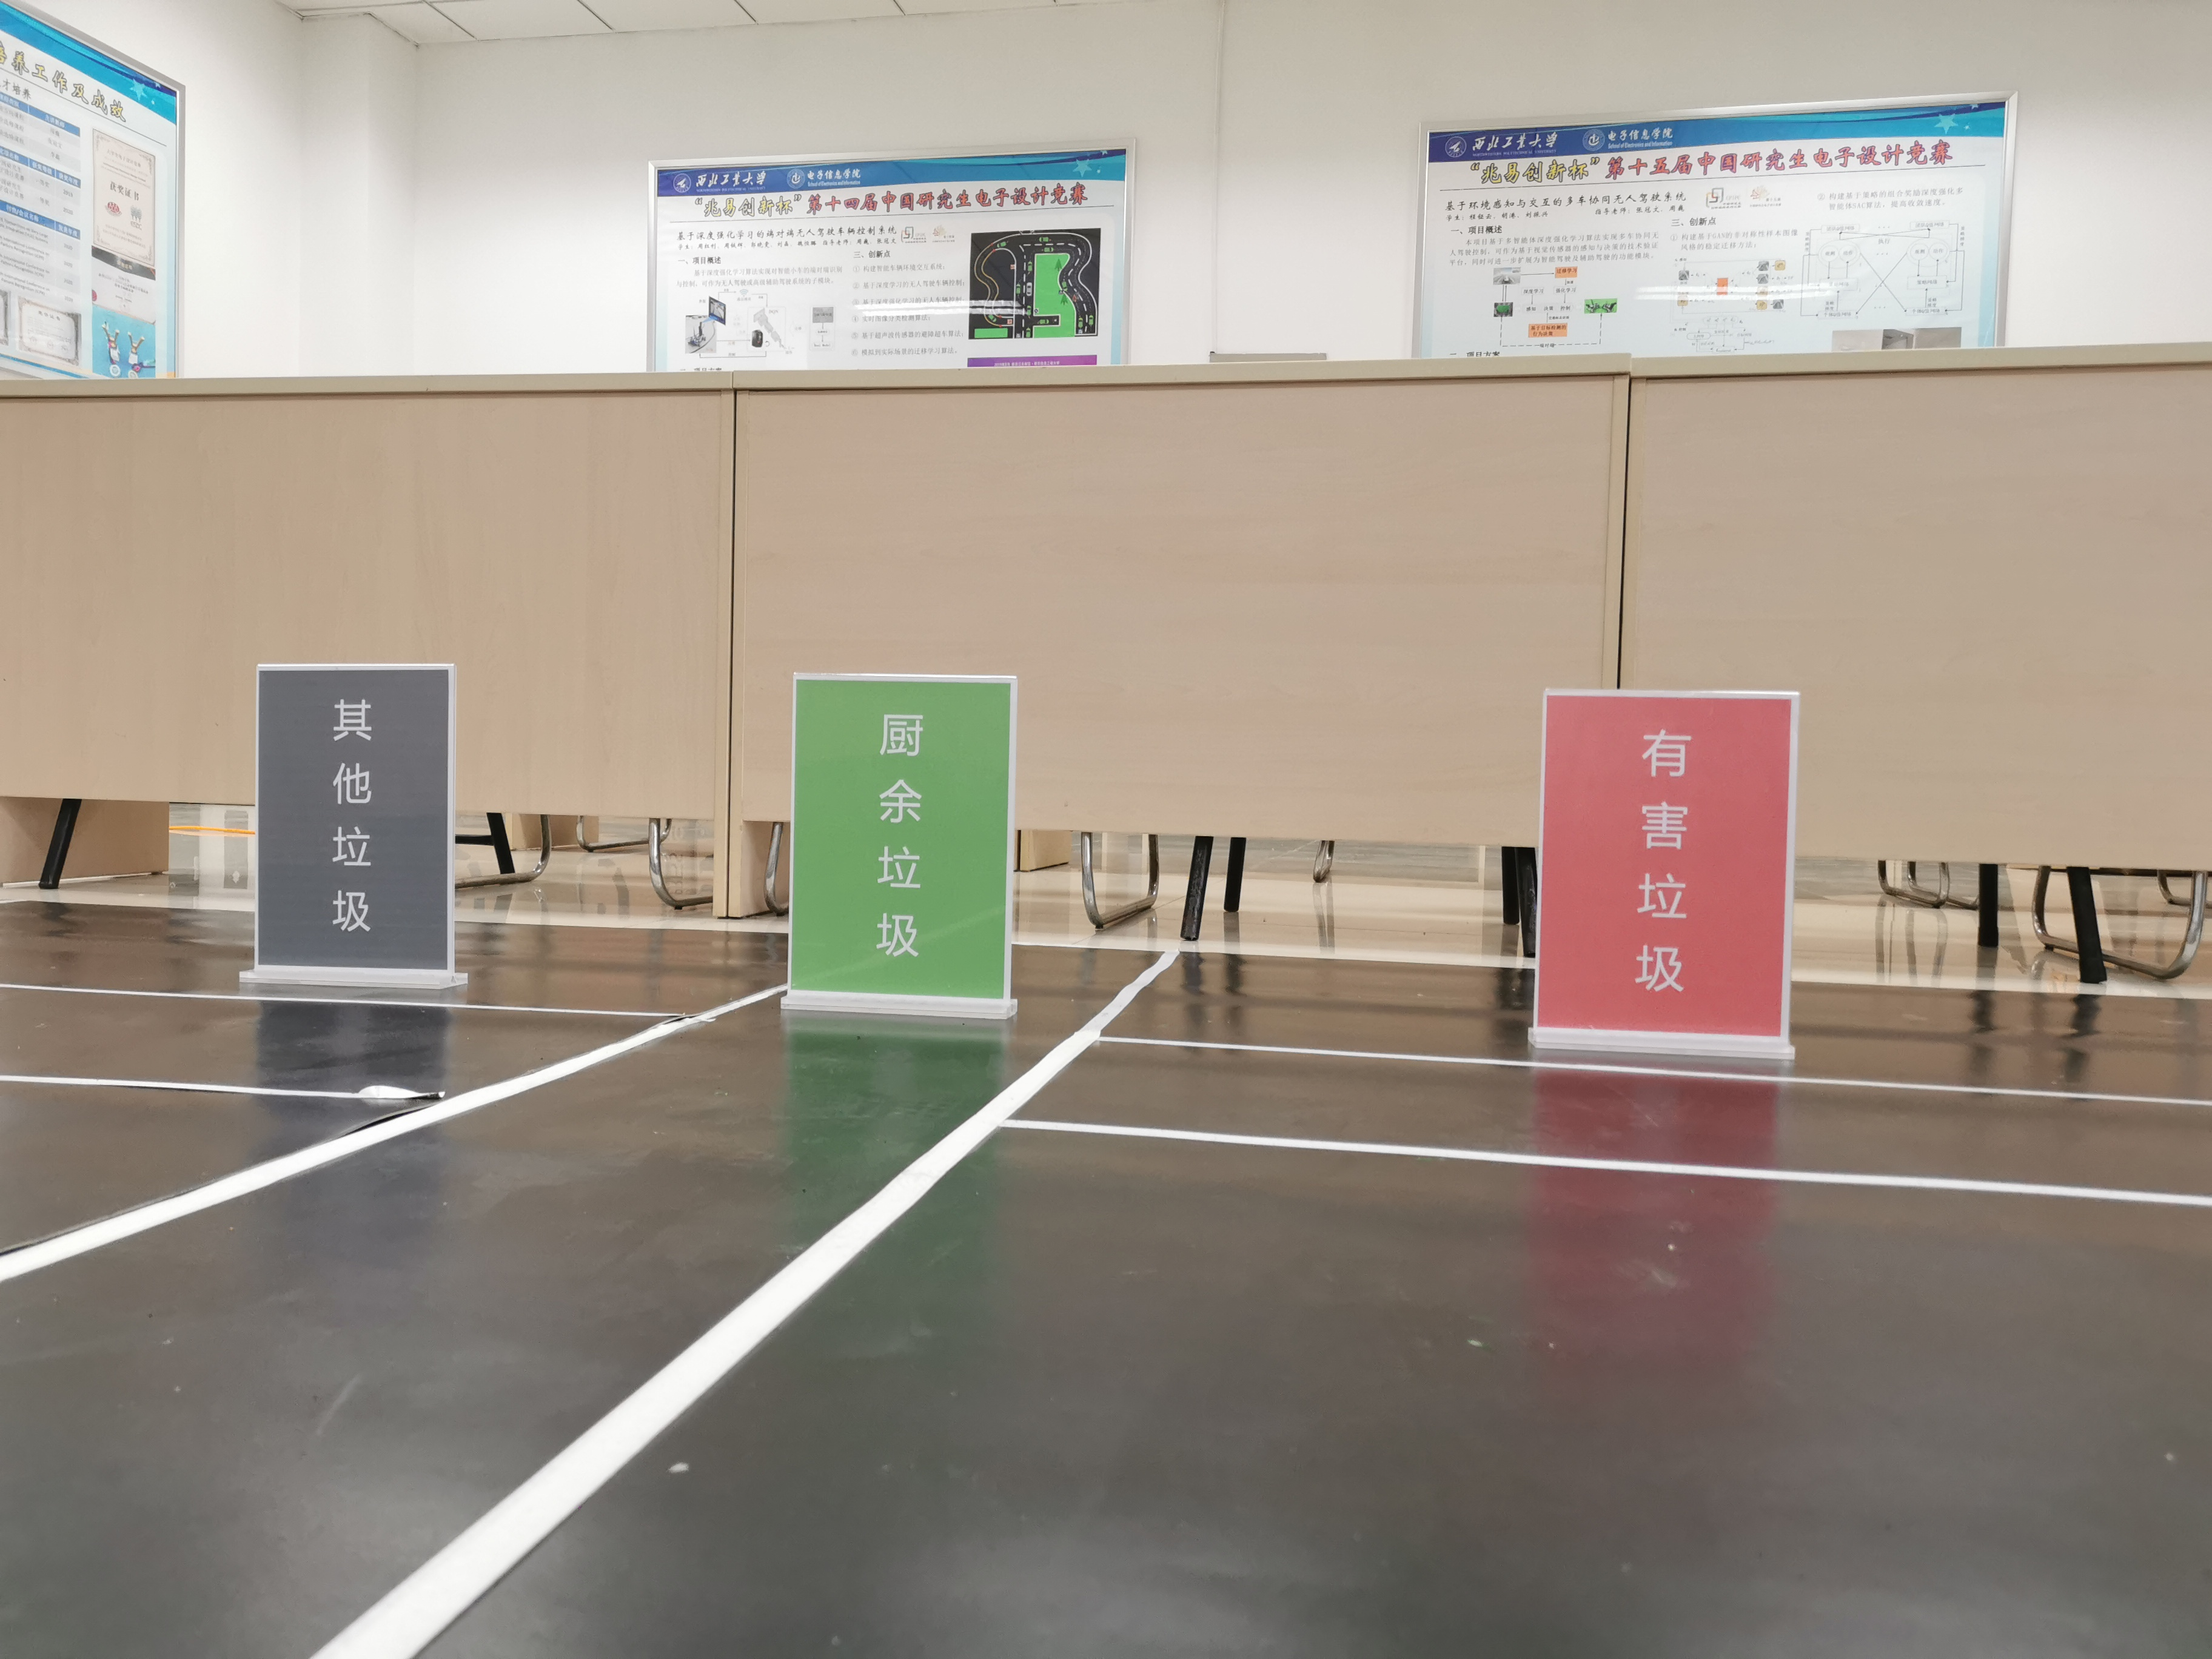black: (265, 680, 442, 964)
green: (801, 683, 1000, 990)
red: (1548, 704, 1778, 1021)
